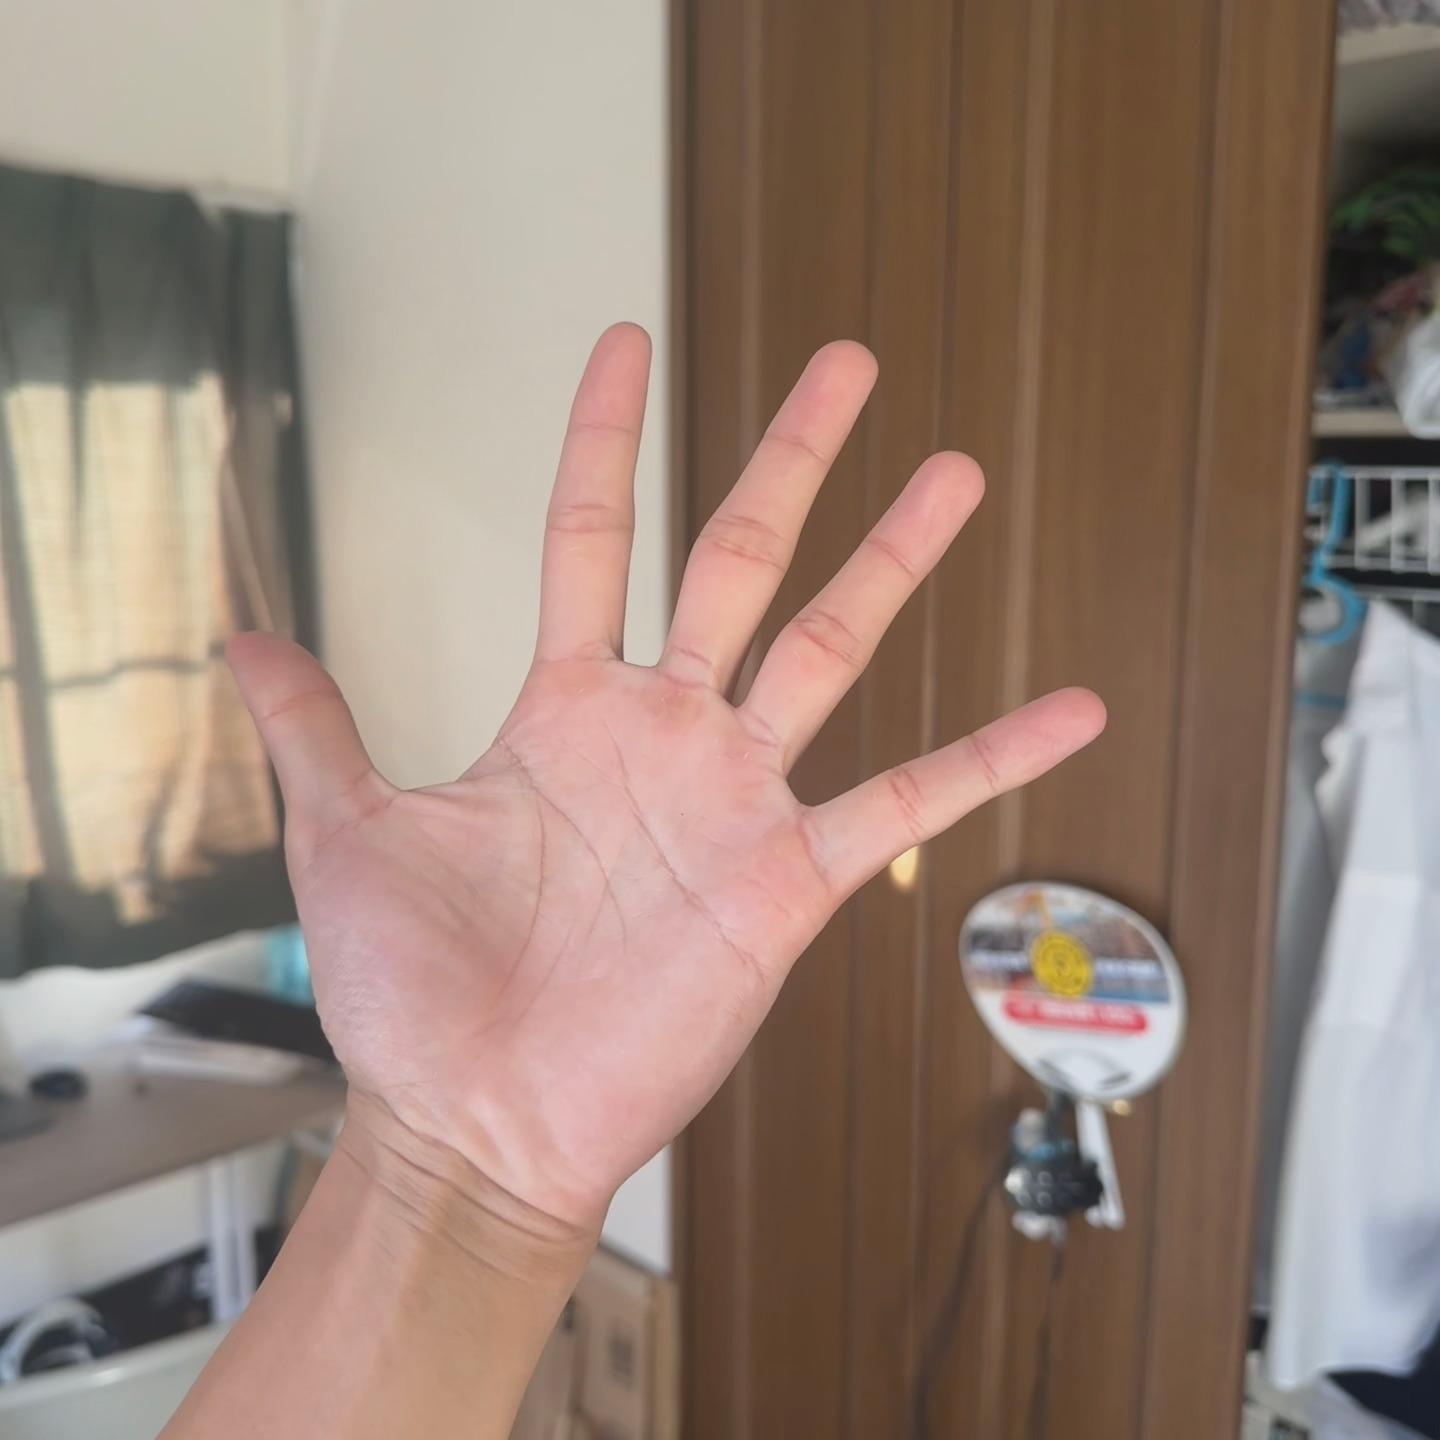without_gloves: (137, 190, 1183, 1225)
